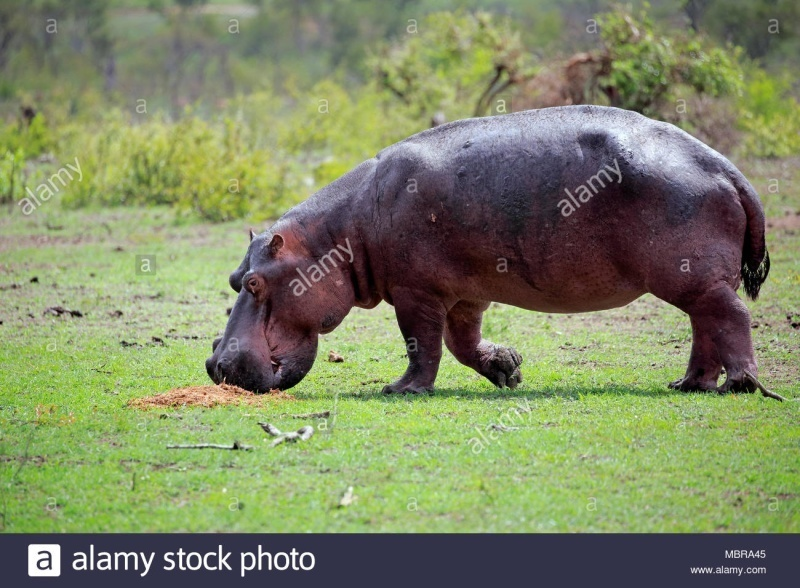hipopotamo: (200, 105, 779, 404)
